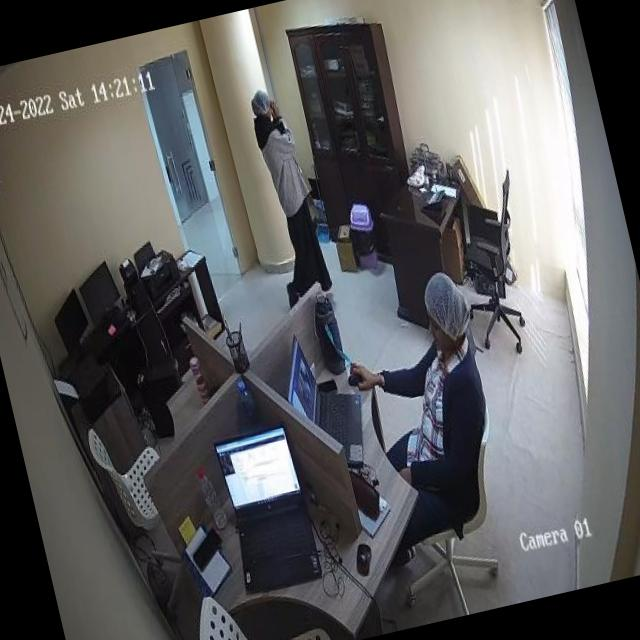hairnet: (418, 270, 472, 338), (246, 88, 274, 116)
